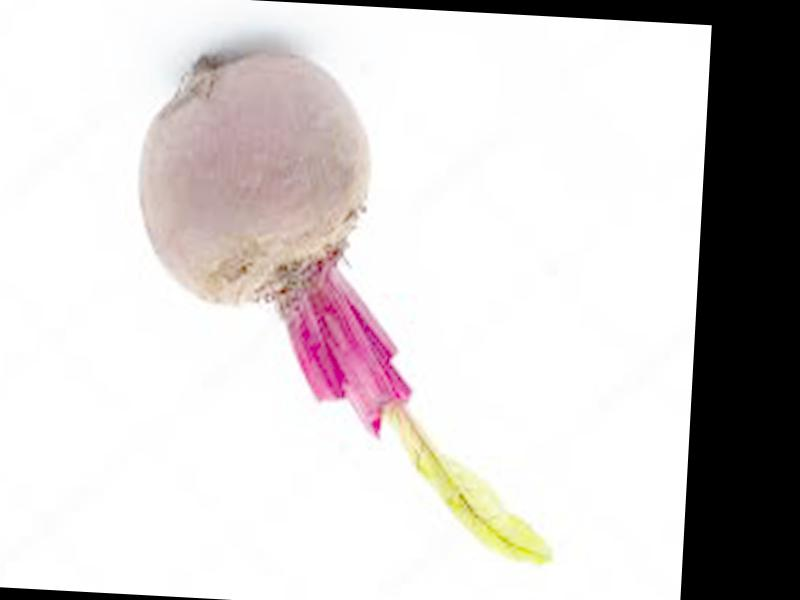Beet: (117, 46, 574, 564)
